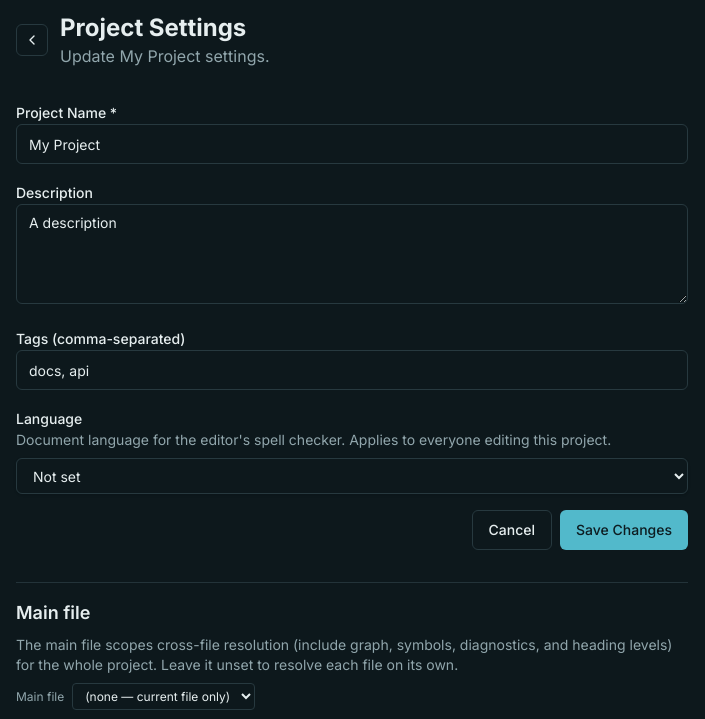
SettingsClient — saving › updates the project and shows a success banner
This screenshot has width=705, height=719.
Replace the text in the field labelled "Project Name *" with "Renamed" at coordinates (352, 144), box x1=16 y1=124 x2=688 y2=164
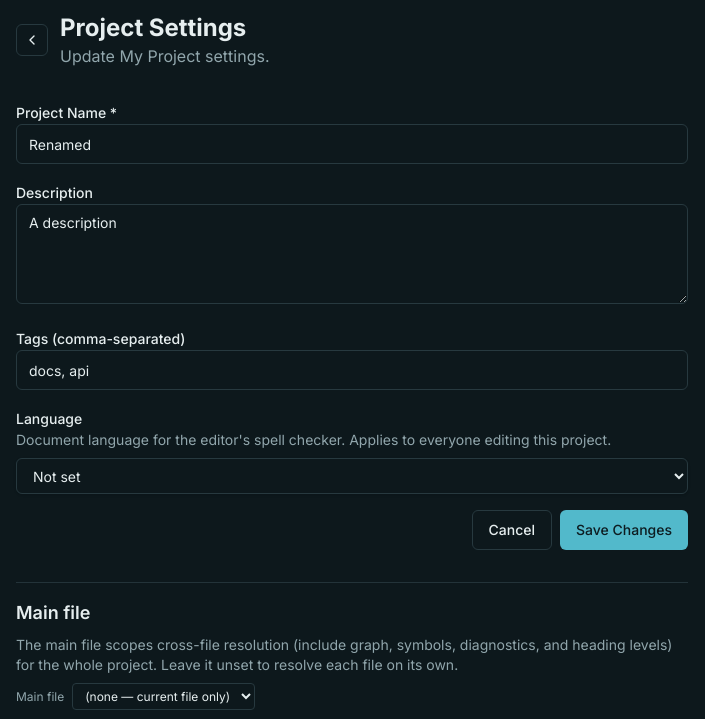
Click the button "Save Changes" at coordinates (624, 530), box x1=560 y1=510 x2=688 y2=550
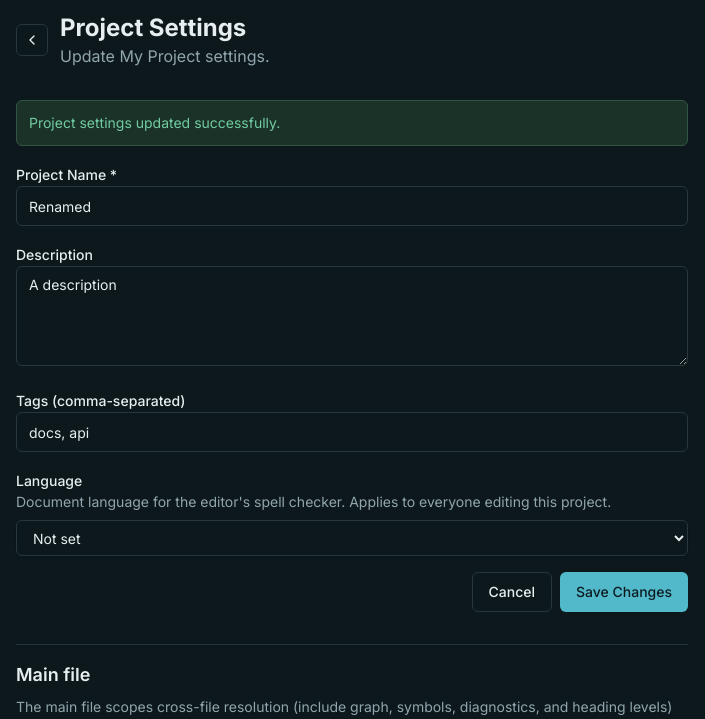
Expected: the text "Project settings updated successfully." is shown, x1=16 y1=100 x2=688 y2=146
